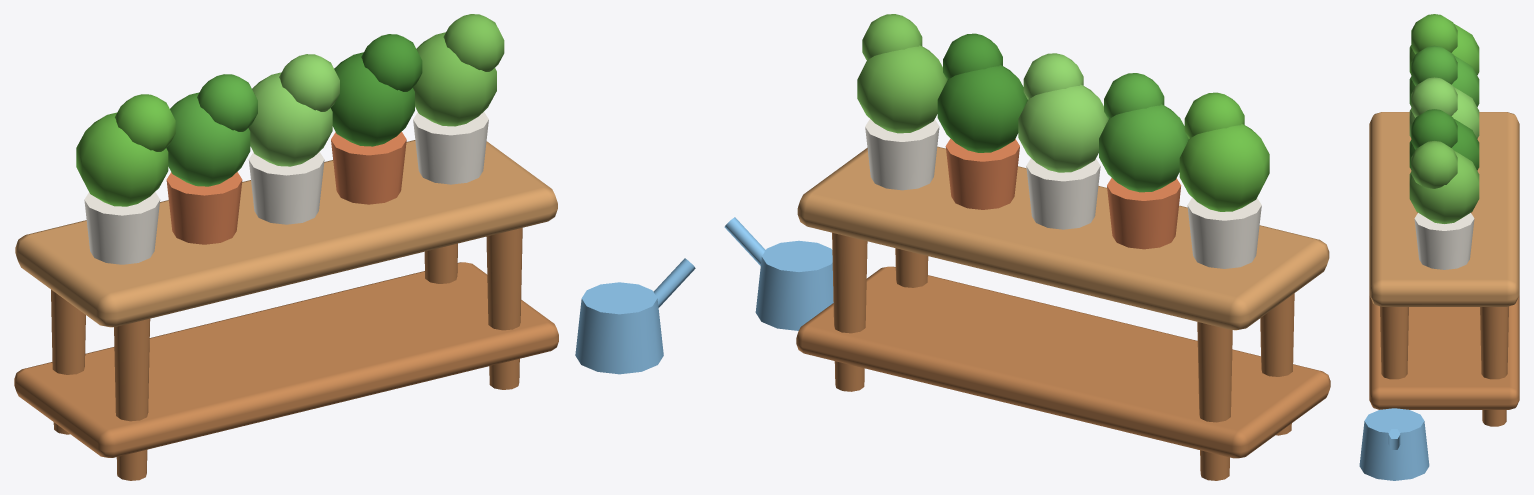
The model's file is kplant-herbs.glb.
3 renders of one model, left to right at view 1: azimuth 30°, elevation 25°; view 2: azimuth 150°, elevation 25°; view 3: azimuth 270°, elevation 25°, orthographic. The views are drawn at different scales.
Size of the model in its own units: 1.11 by 0.61 by 0.32.
